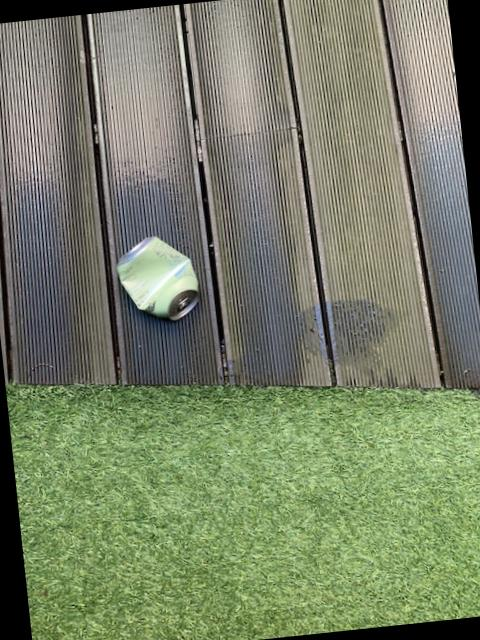metal: (118, 236, 201, 318)
